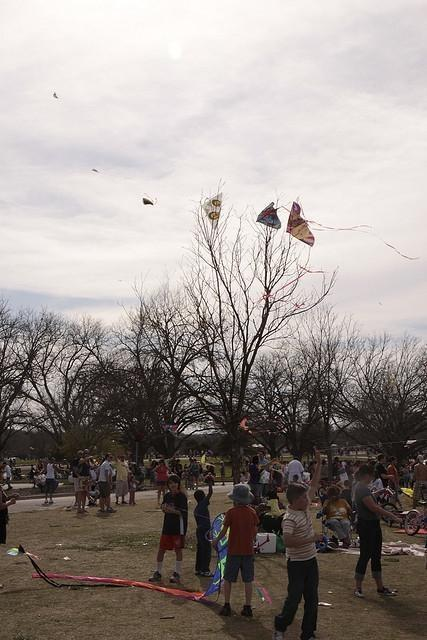bicycle: (381, 504, 421, 536)
